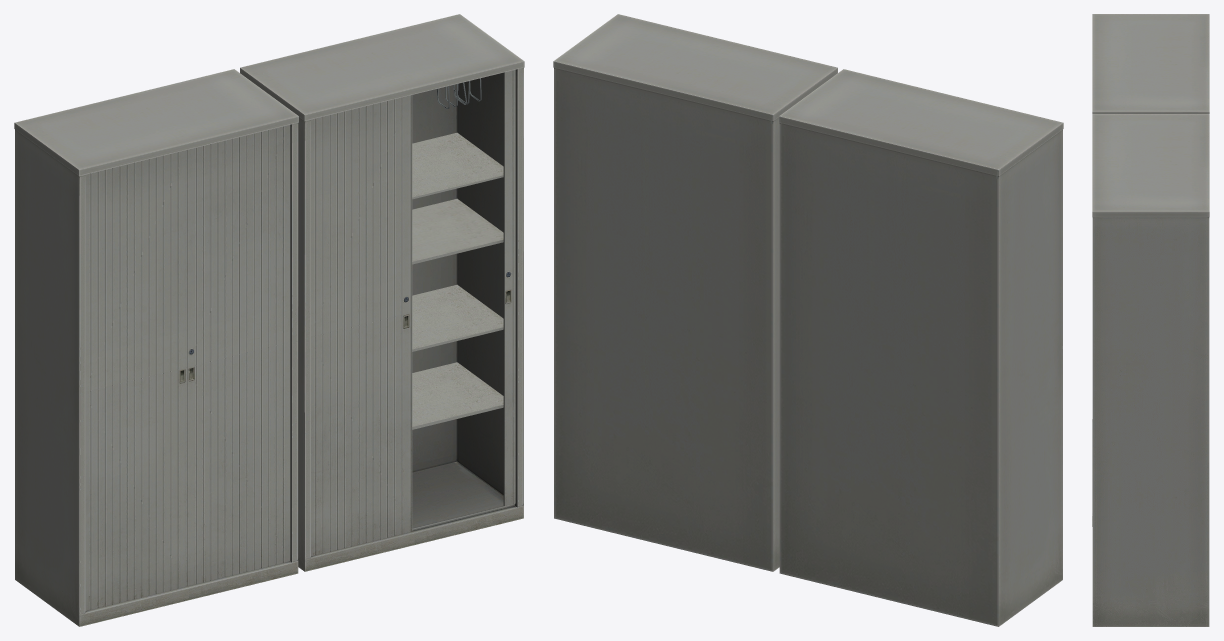
File: S_ClstOfcA_0_001.FBX
3 views of the same model, side by side, from view 1: azimuth 30°, elevation 25°; view 2: azimuth 150°, elevation 25°; view 3: azimuth 270°, elevation 25° (orthographic). The views are drawn at different scales.
Parts seen in each view (by area): view 1: S_ClstOfcACounter002, S_ClstOfcACounter, S_ClstOfcADoor; view 2: S_ClstOfcACounter002, S_ClstOfcACounter; view 3: S_ClstOfcACounter, S_ClstOfcACounter002.
Boxes of the visible parts, x1=… form: S_ClstOfcACounter002: x1=14, y1=69, x2=298, y2=626; S_ClstOfcACounter: x1=240, y1=14, x2=524, y2=571; S_ClstOfcADoor: x1=311, y1=95, x2=412, y2=556; S_ClstOfcACounter002: x1=779, y1=69, x2=1063, y2=626; S_ClstOfcACounter: x1=553, y1=14, x2=837, y2=571; S_ClstOfcACounter: x1=1092, y1=114, x2=1209, y2=626; S_ClstOfcACounter002: x1=1092, y1=14, x2=1209, y2=526.
Bounding box in the file's own units: 72.19 × 70.8 × 18.14.
Materials: 2 (2 with a texture image).
